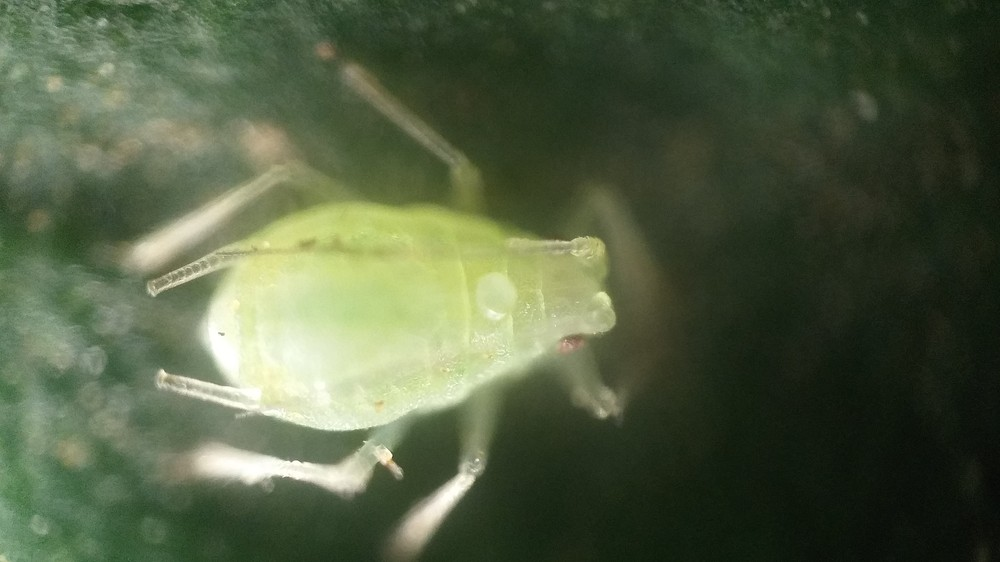Pulgon: (117, 66, 693, 556)
